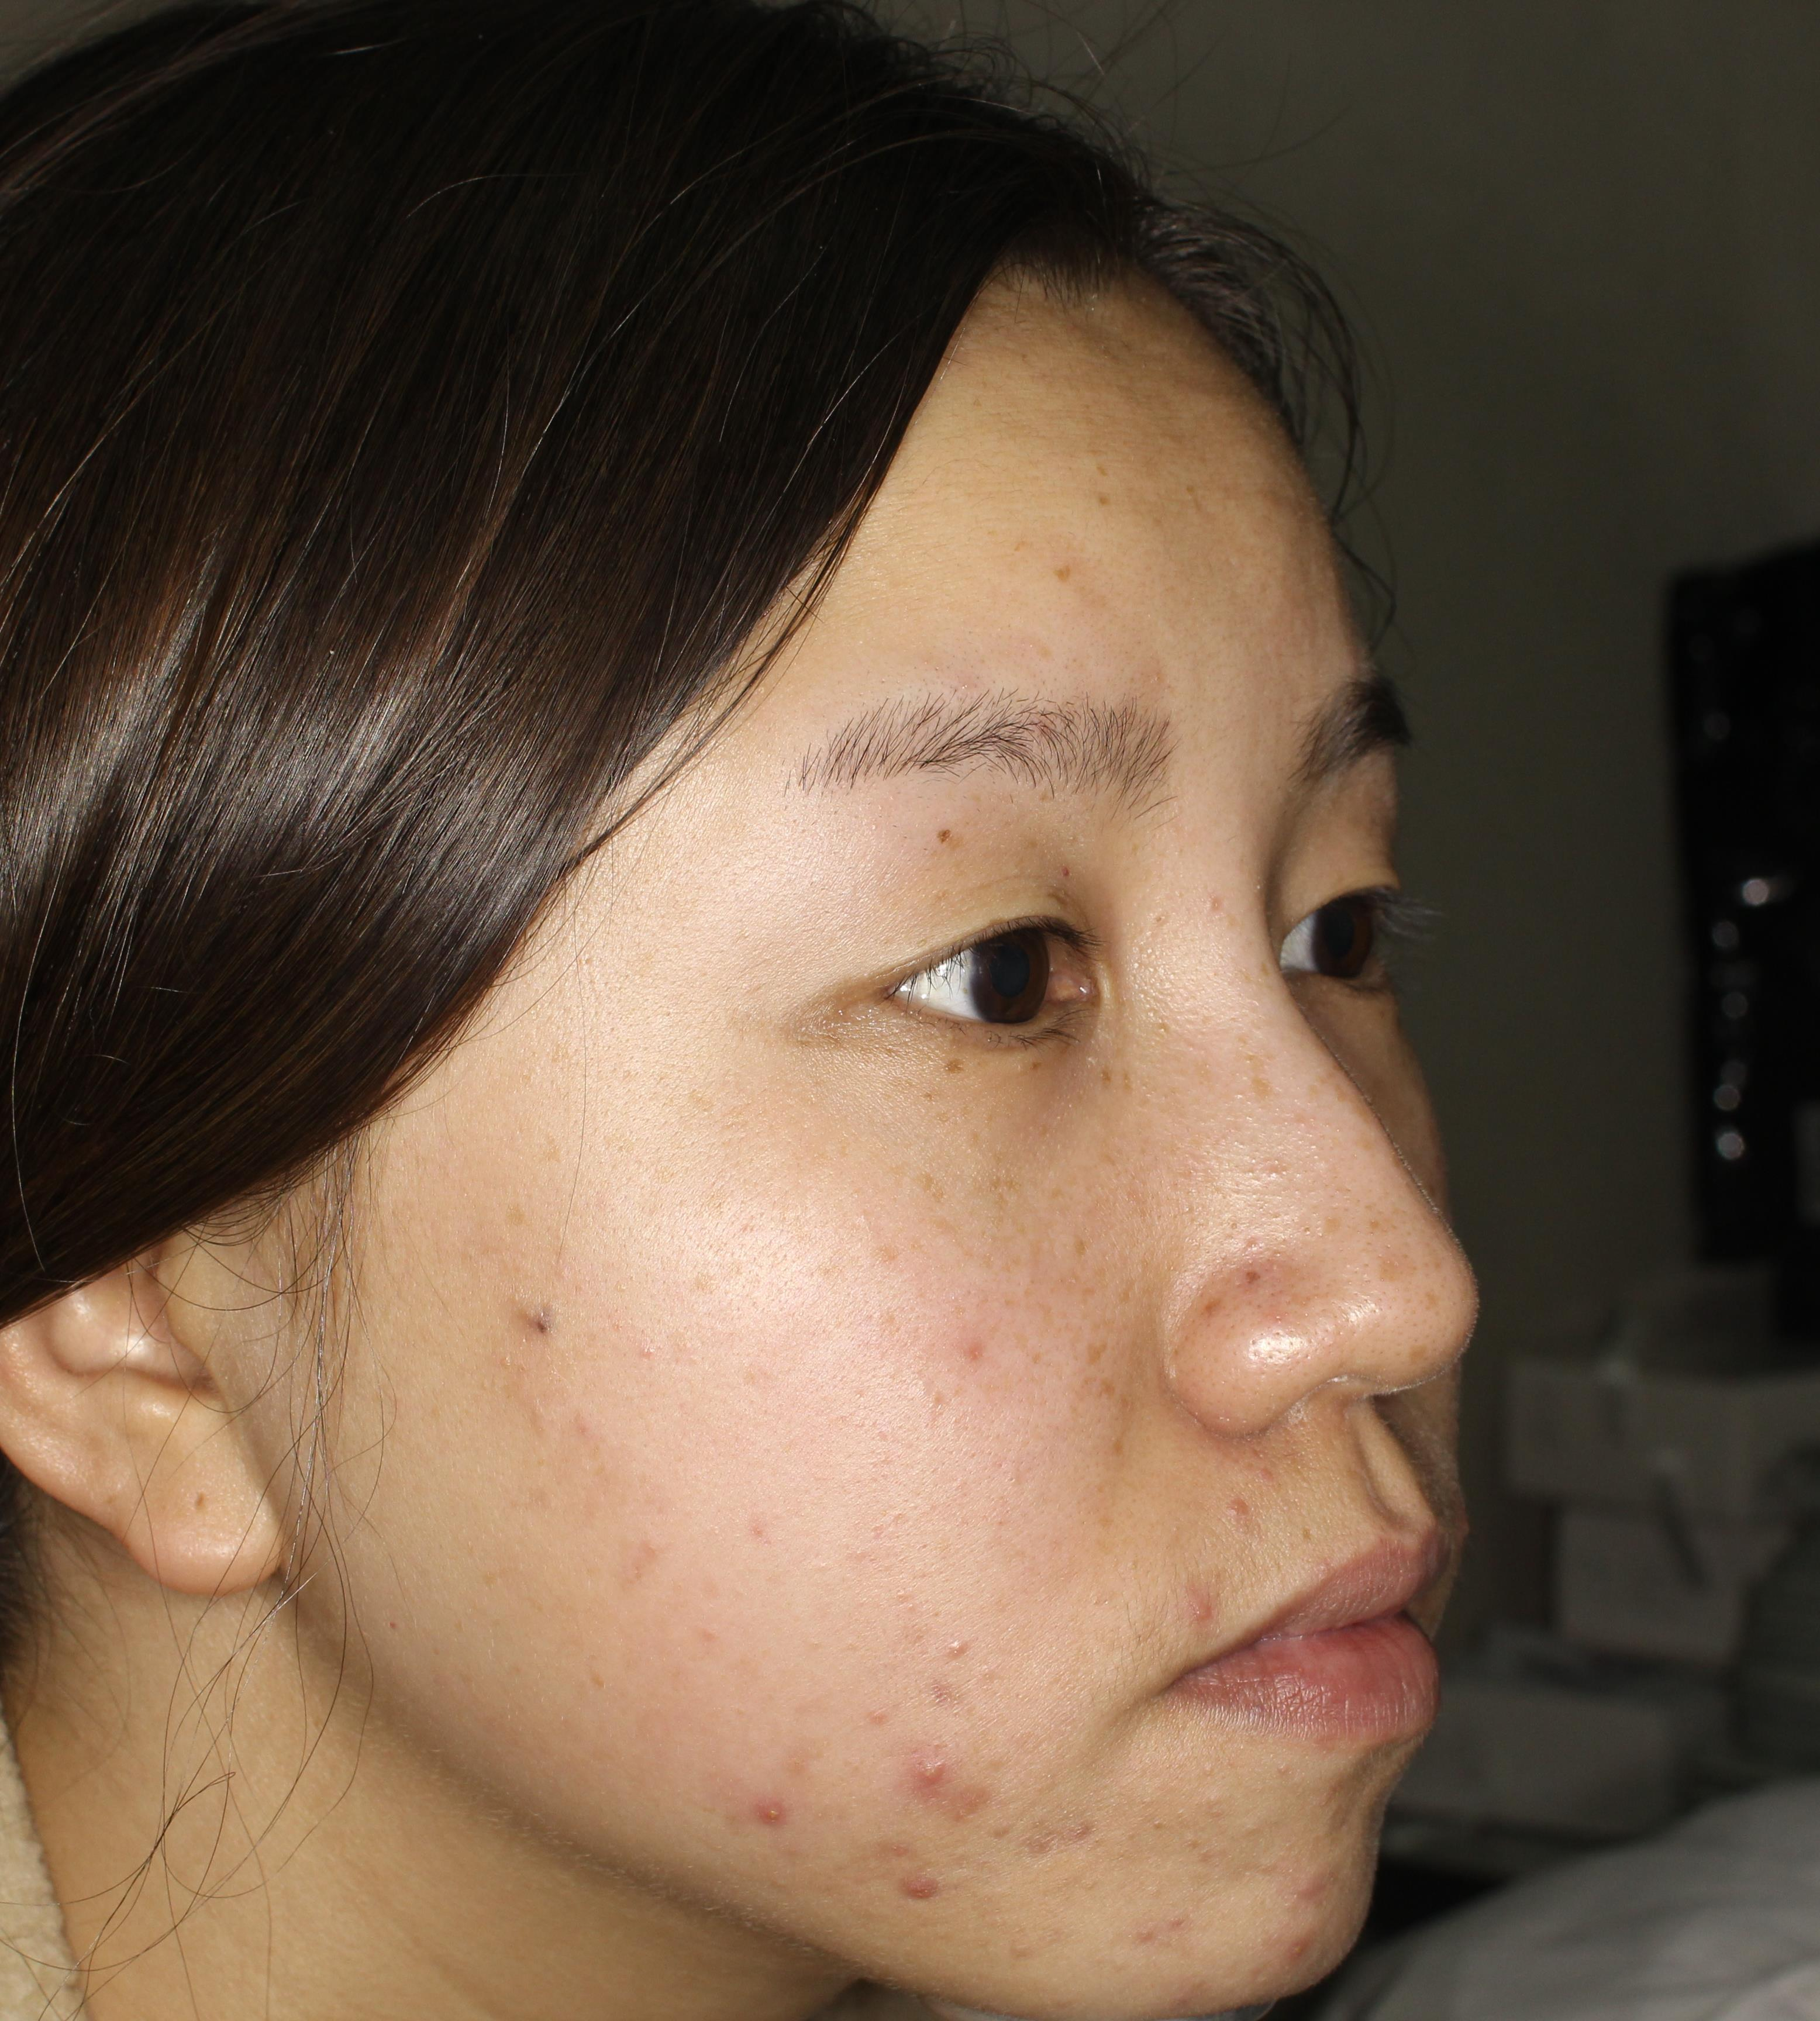fore: (991, 1782, 1123, 1863), (727, 1768, 817, 1854), (875, 1849, 964, 1926), (1260, 1907, 1346, 1975), (1268, 1845, 1354, 1912), (1166, 1571, 1239, 1635), (901, 1724, 964, 1794), (1131, 1886, 1179, 1953)
